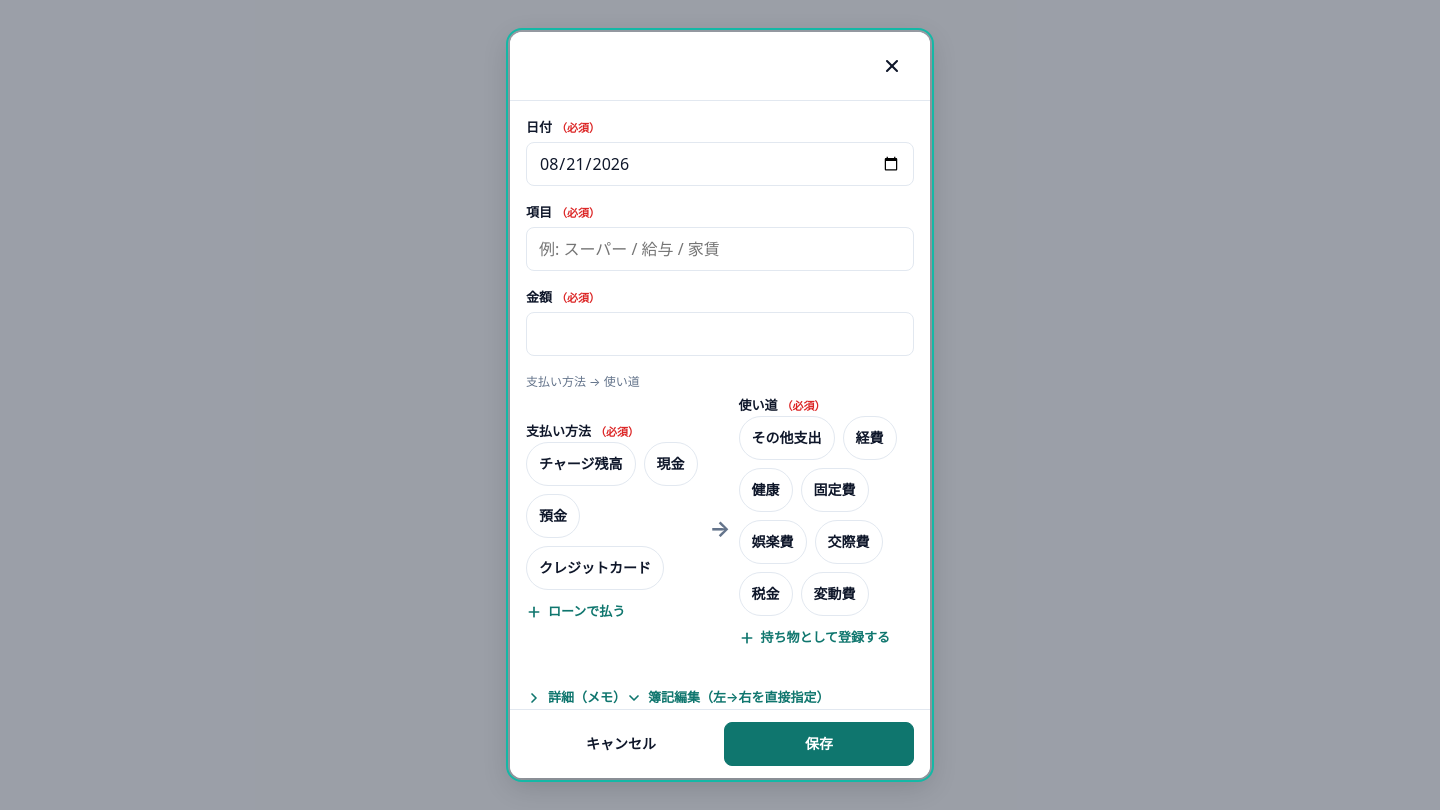
Test: 仕訳入力の科目候補 › ヘッダーではなくフォームの日付時点で存在する科目だけを表示する
In the date field labelled "日付（必須）": (720, 164) top-left (526, 142), bottom-right (914, 186), type "2024-12-31"
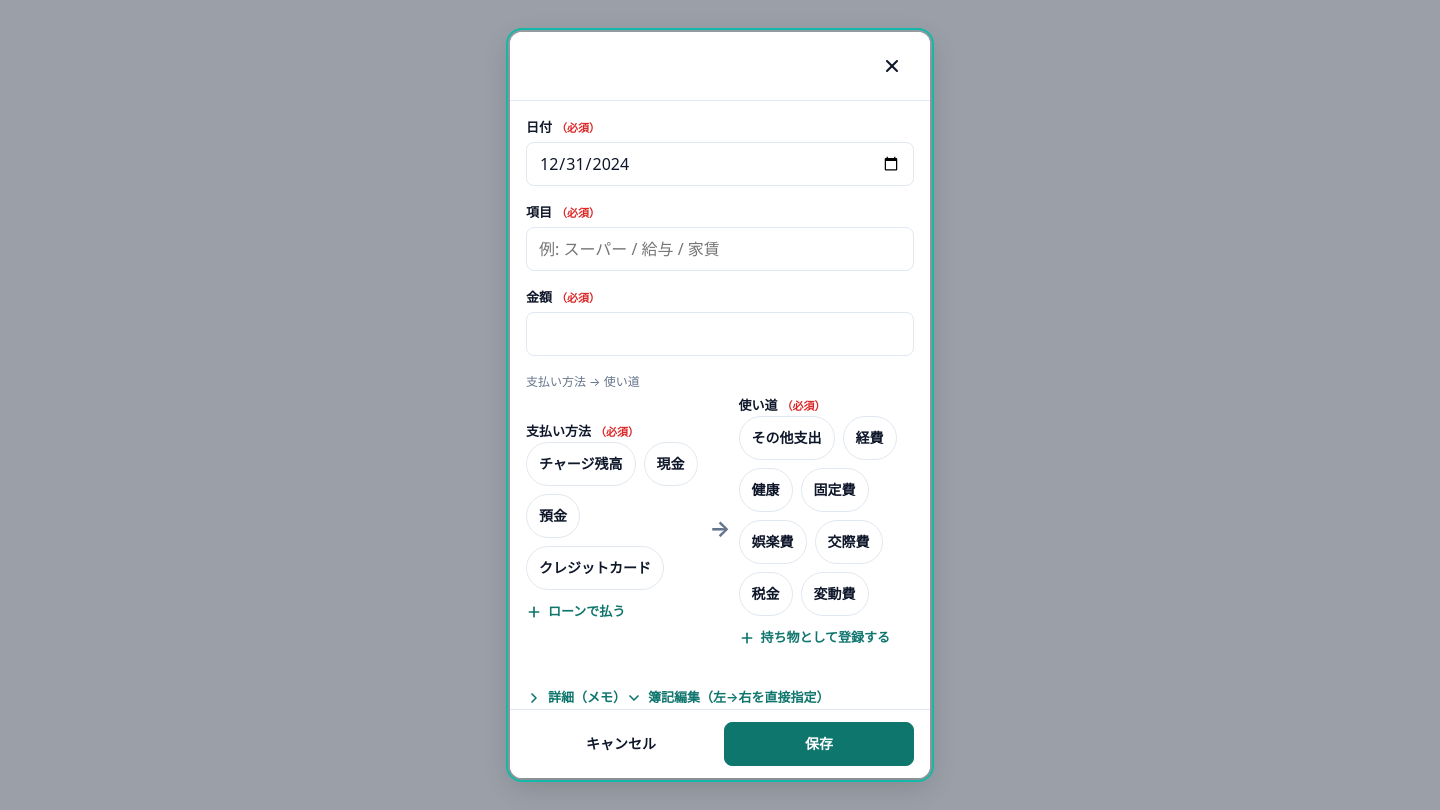
Check: the radio button labelled "期間限定の支出先" is not shown
In the date field labelled "日付（必須）": (720, 164) top-left (526, 142), bottom-right (914, 186), type "2025-01-01"
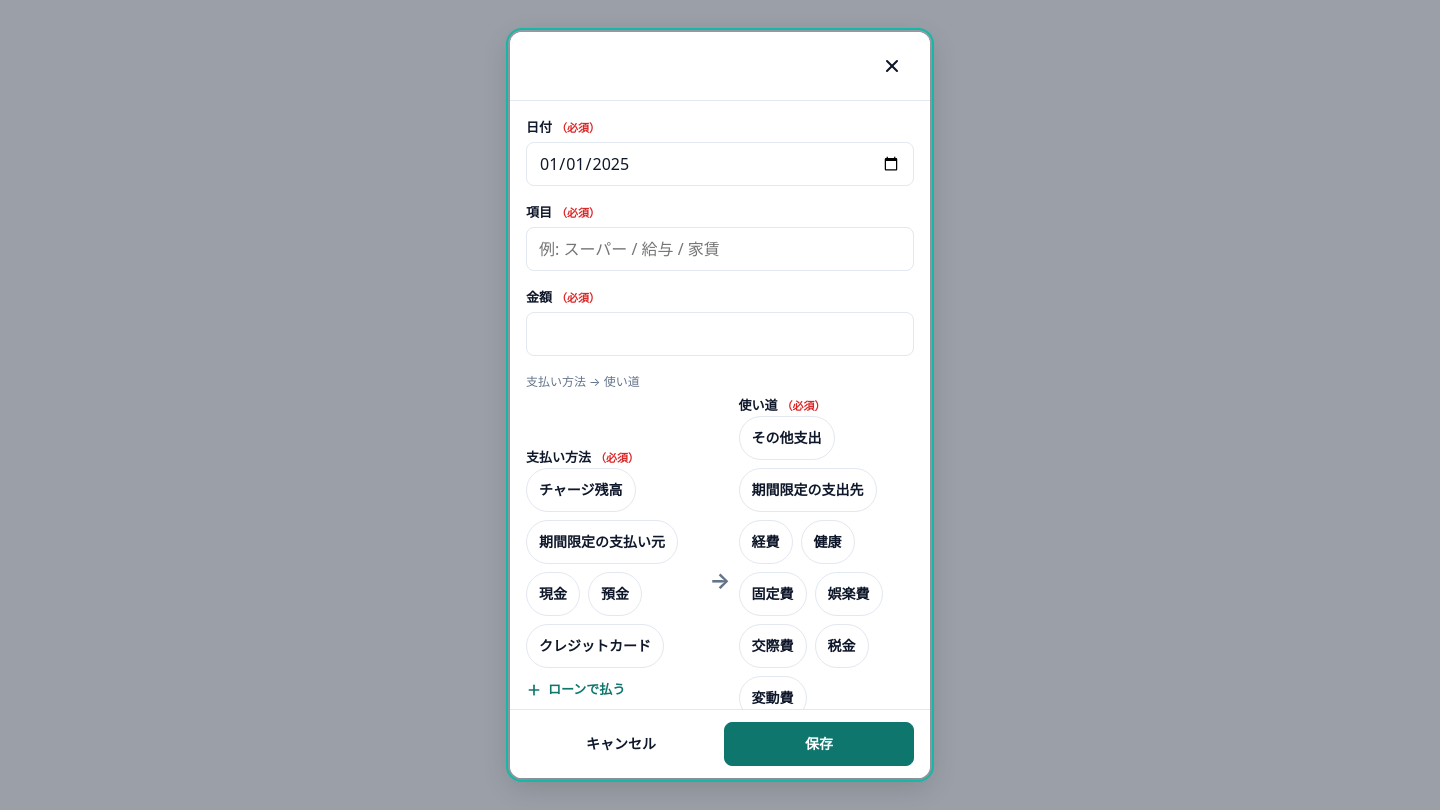
Check: the radio button labelled "期間限定の支払い元" is shown, box top-left (526, 520), bottom-right (678, 564)
Check: the radio button labelled "期間限定の支出先" is shown, box top-left (738, 468), bottom-right (876, 512)
In the date field labelled "日付（必須）": (720, 164) top-left (526, 142), bottom-right (914, 186), type "2025-12-31"
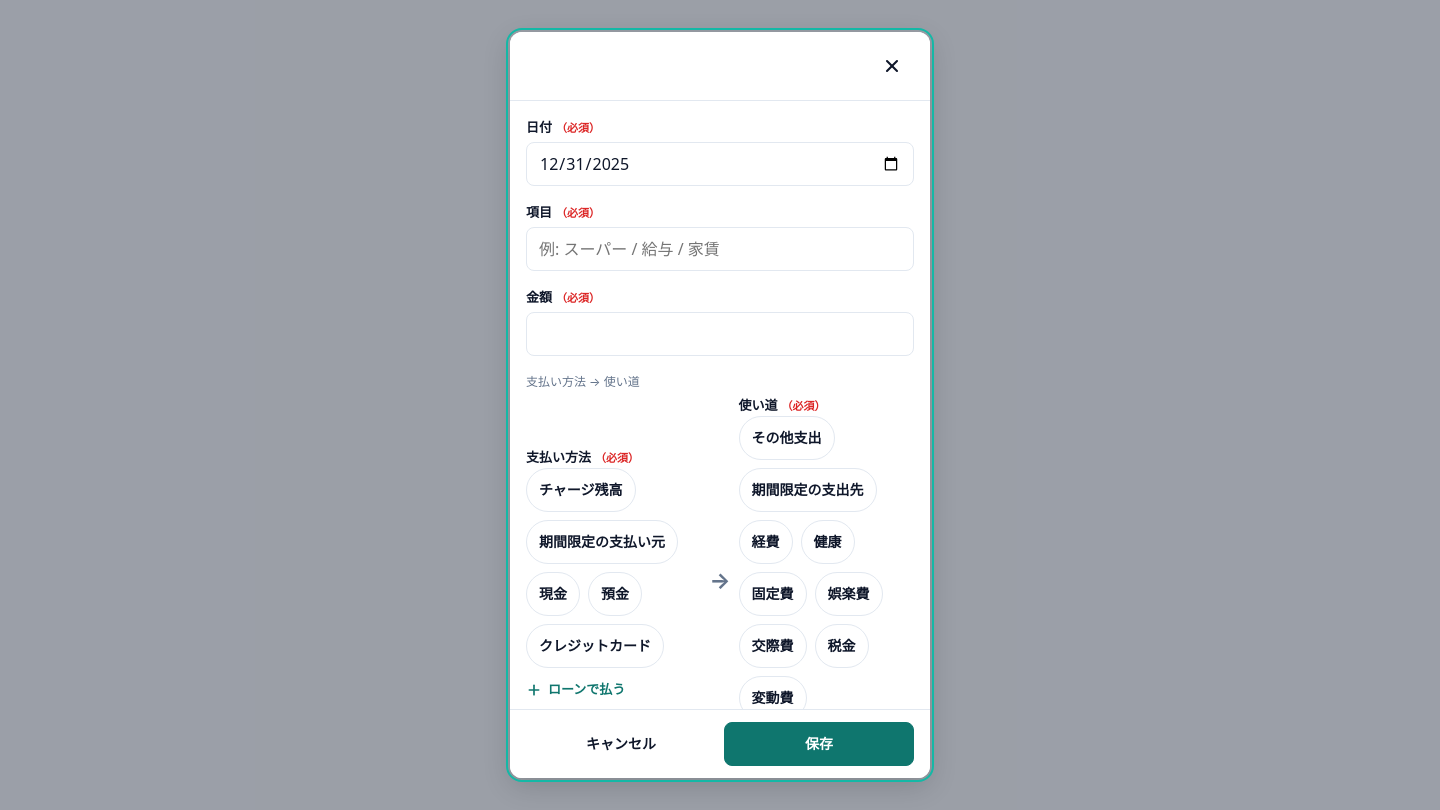
Check: the radio button labelled "期間限定の支払い元" is shown, box top-left (526, 520), bottom-right (678, 564)
Check: the radio button labelled "期間限定の支出先" is shown, box top-left (738, 468), bottom-right (876, 512)
In the date field labelled "日付（必須）": (720, 164) top-left (526, 142), bottom-right (914, 186), type "2026-01-01"
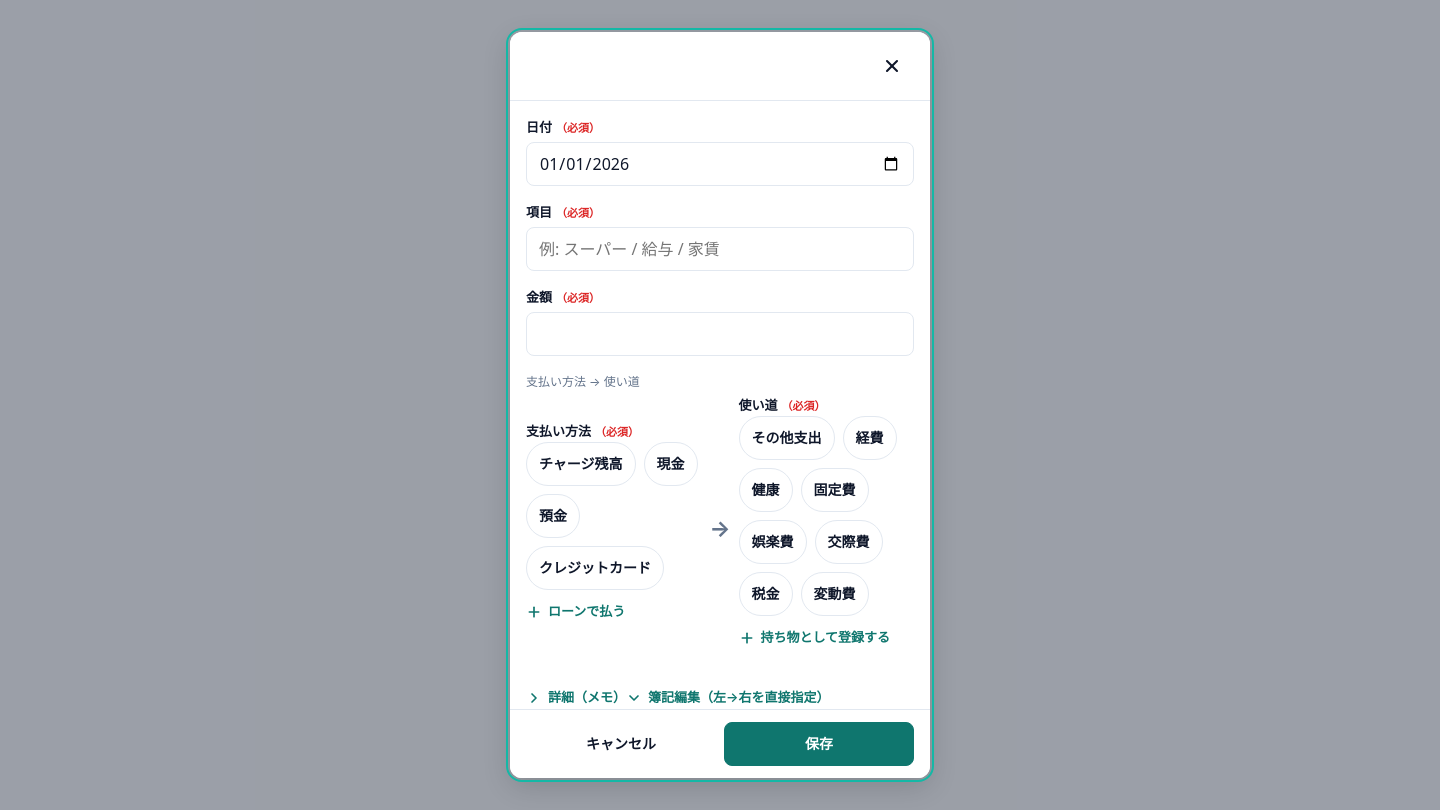
Check: the text "期間限定の支出先" is gone
